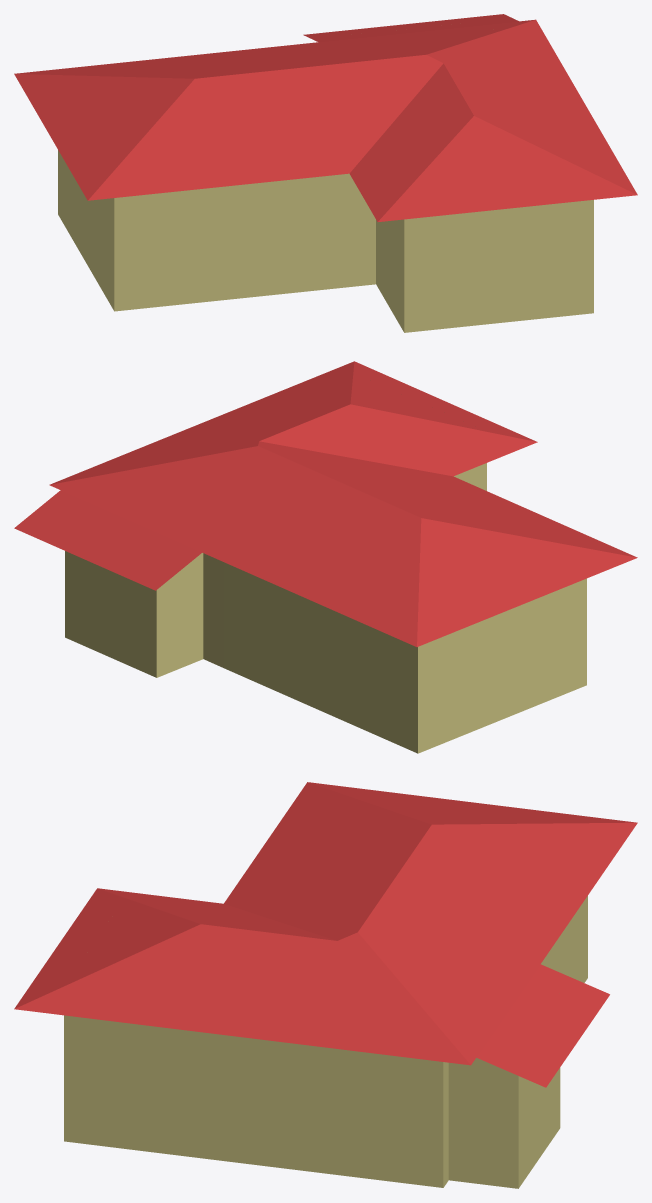
The picture shows the model from 3 angles, top to bottom: view 1: azimuth 30°, elevation 25°; view 2: azimuth 150°, elevation 25°; view 3: azimuth 270°, elevation 25°; orthographic projection. The views are drawn at different scales.
Size of the model in its own units: 24.93 by 23.14 by 7.77.
